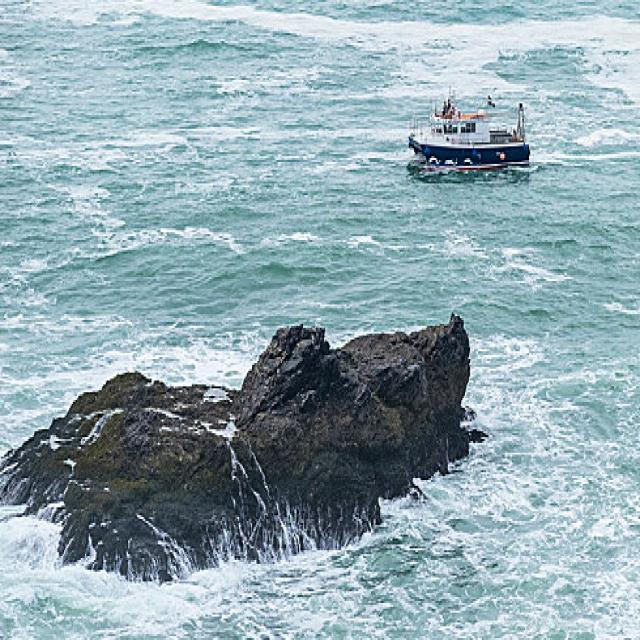reef: (5, 312, 478, 591)
